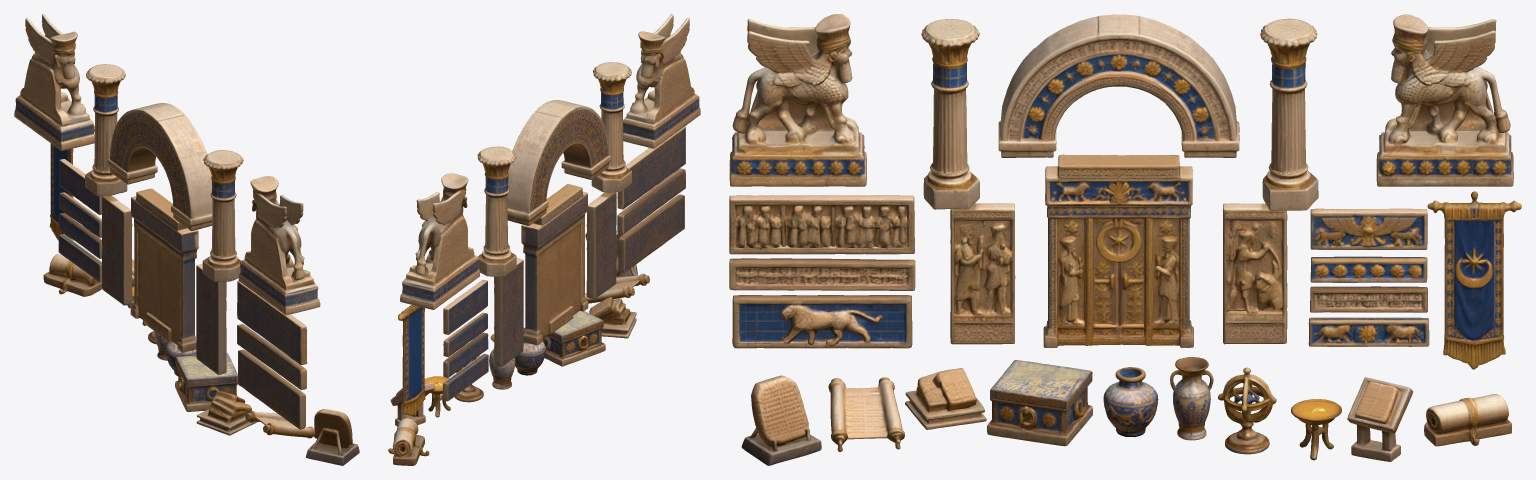
File: archive-ornaments.glb
3 renders of one model, left to right at view 1: azimuth 30°, elevation 25°; view 2: azimuth 150°, elevation 25°; view 3: azimuth 270°, elevation 25°, orthographic. The views are drawn at different scales.
Parts seen in each view (by area): view 1: world; view 2: world; view 3: world.
Boxes of the visible parts, left/top/right/bottom form: world: left=14, top=14, right=359, bottom=465; world: left=388, top=14, right=700, bottom=465; world: left=729, top=14, right=1521, bottom=465.
Bounding box in the file's own units: 0.1994 × 0.5547 × 1.
Materials: 1 (1 with a texture image).
